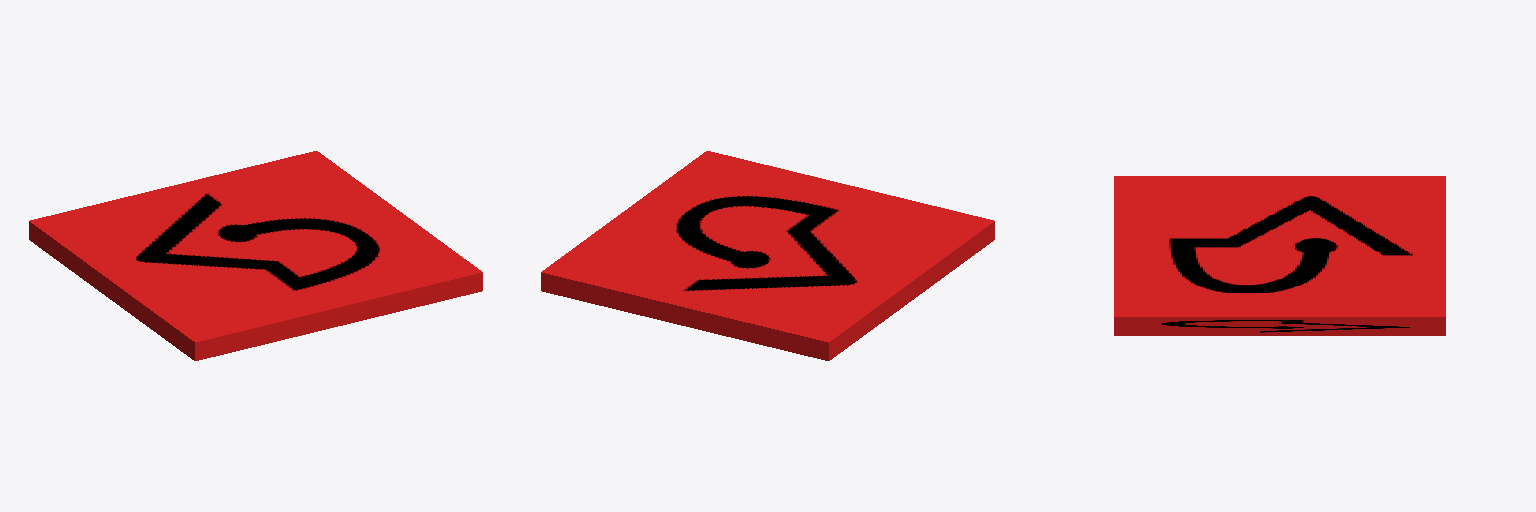
The picture shows the model from 3 angles: view 1: azimuth 30°, elevation 25°; view 2: azimuth 150°, elevation 25°; view 3: azimuth 270°, elevation 25°; orthographic projection.
Parts seen in each view (by area): view 1: Cube.001_Cube.003; view 2: Cube.001_Cube.003; view 3: Cube.001_Cube.003.
Part boxes in pixels (x1,y1,x2,y2): Cube.001_Cube.003: (29, 151, 482, 360); Cube.001_Cube.003: (541, 151, 994, 360); Cube.001_Cube.003: (1114, 176, 1445, 335).
Bounding box in the file's own units: 0.0905 × 0.0057 × 0.0905.
Materials: 1 (1 with a texture image).